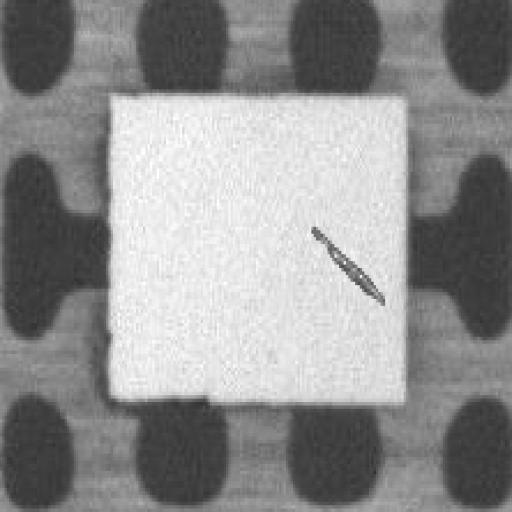DIE_INK: (307, 220, 387, 306)
